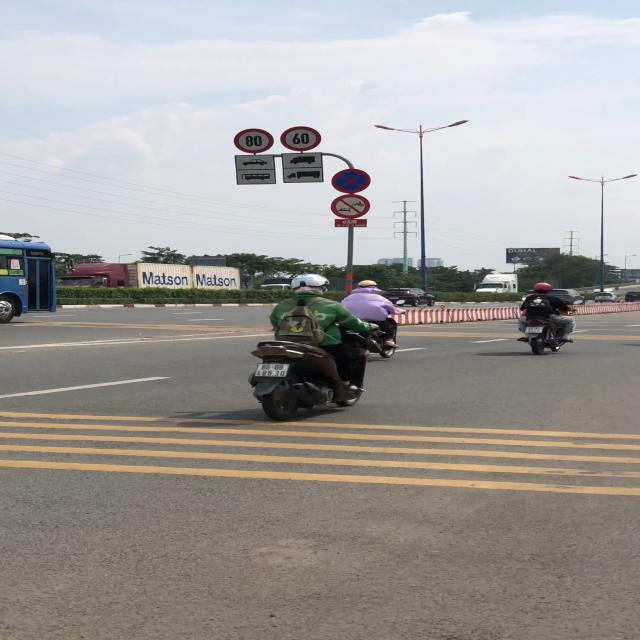Bien bao cam dung xe va do xe: (330, 168, 374, 193)
Bien bao toc do toi da cho phep: (281, 125, 324, 152), (233, 128, 277, 154)
